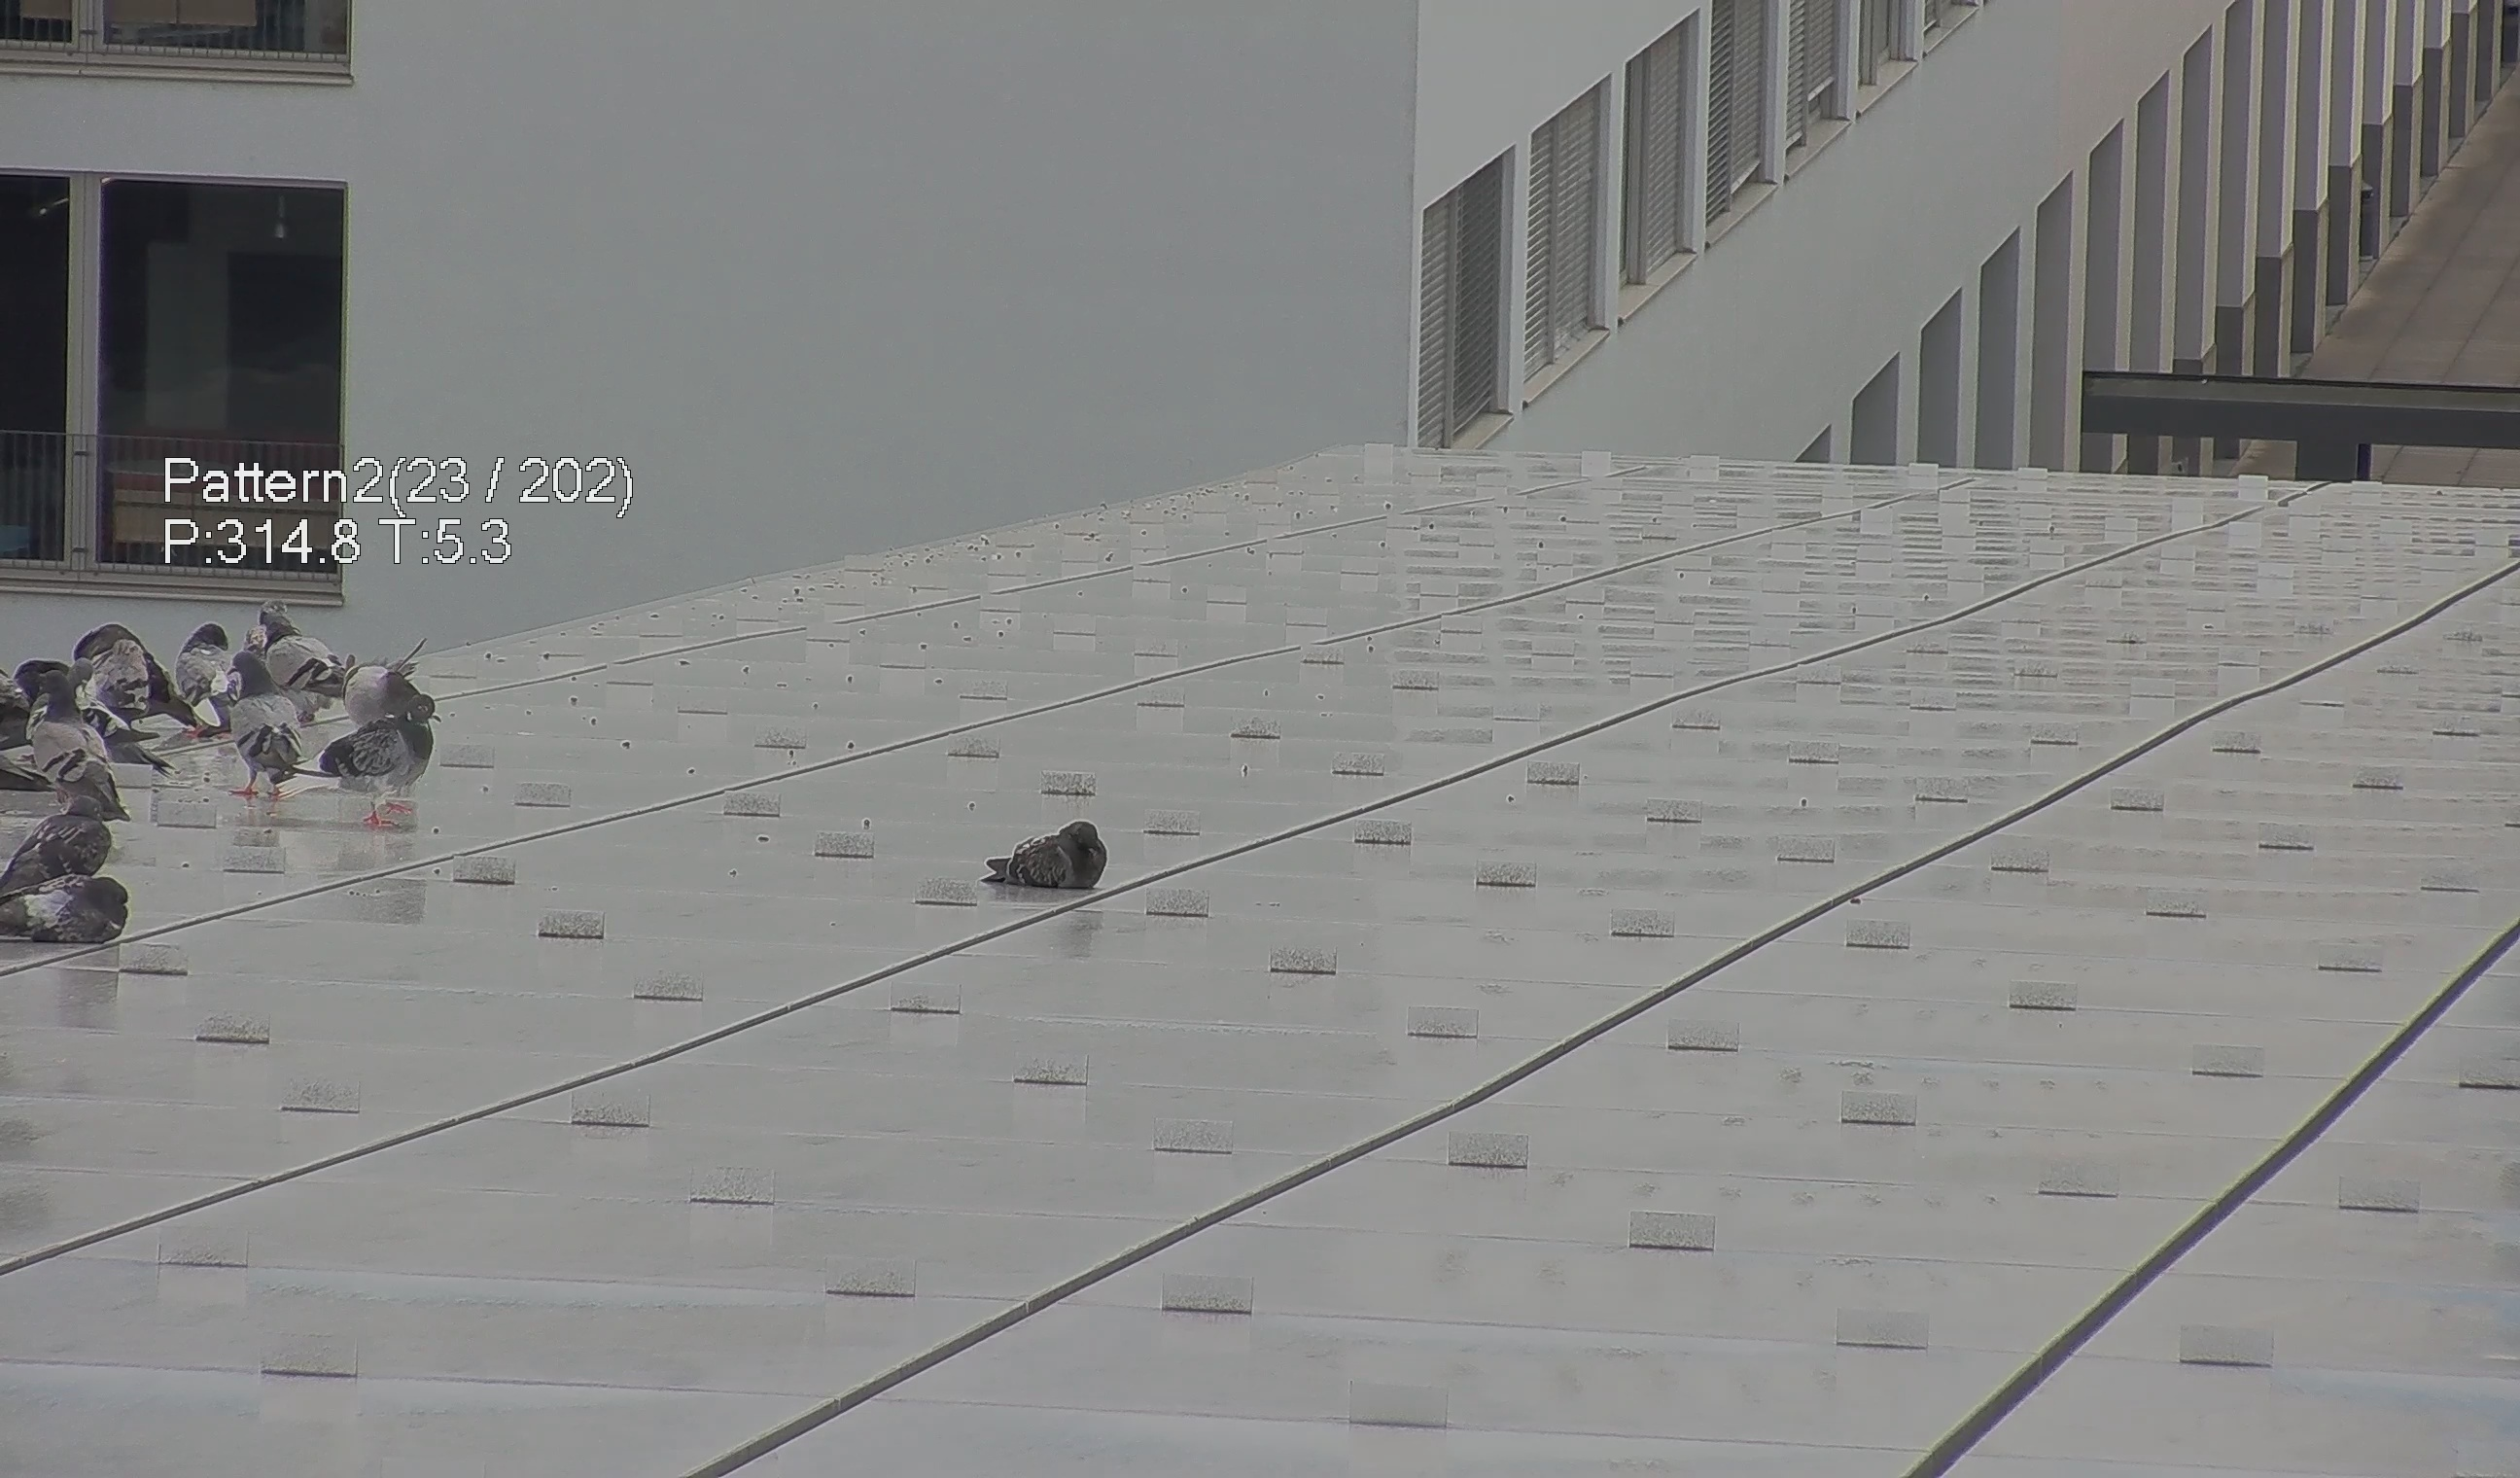Pigeon: (288, 684, 438, 825), (30, 674, 128, 822), (222, 649, 302, 811), (978, 813, 1111, 903), (2, 797, 121, 889), (172, 616, 246, 753), (2, 873, 132, 950), (251, 598, 336, 713), (336, 649, 448, 730), (84, 625, 151, 725)
